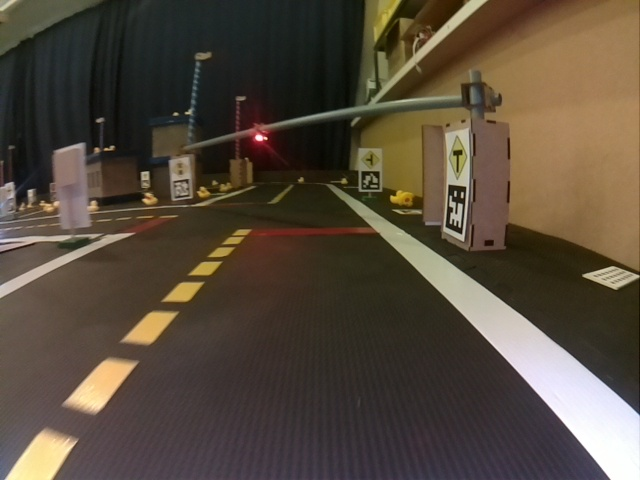Duckie: (390, 191, 413, 206), (141, 192, 158, 206), (197, 186, 209, 198), (88, 200, 98, 211), (219, 183, 228, 192), (45, 206, 54, 214), (297, 176, 305, 184), (341, 178, 349, 185)
Intersection sign: (448, 139, 466, 180), (360, 151, 380, 169)
QR code: (444, 184, 465, 235), (361, 173, 381, 190), (172, 180, 190, 198), (392, 207, 421, 215)
Signal sign: (170, 159, 189, 177)
Traffic light: (253, 128, 267, 144)
